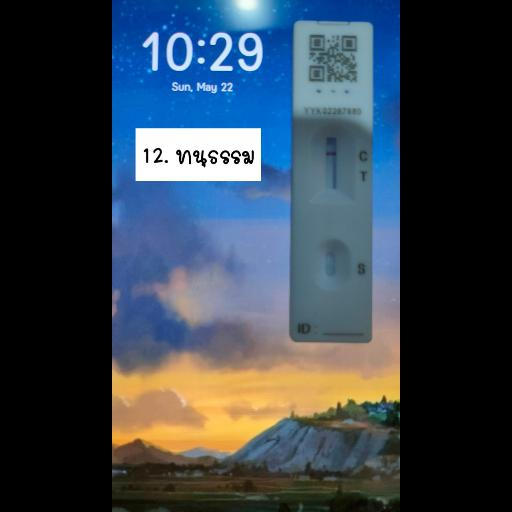Neg: (296, 22, 370, 344)
